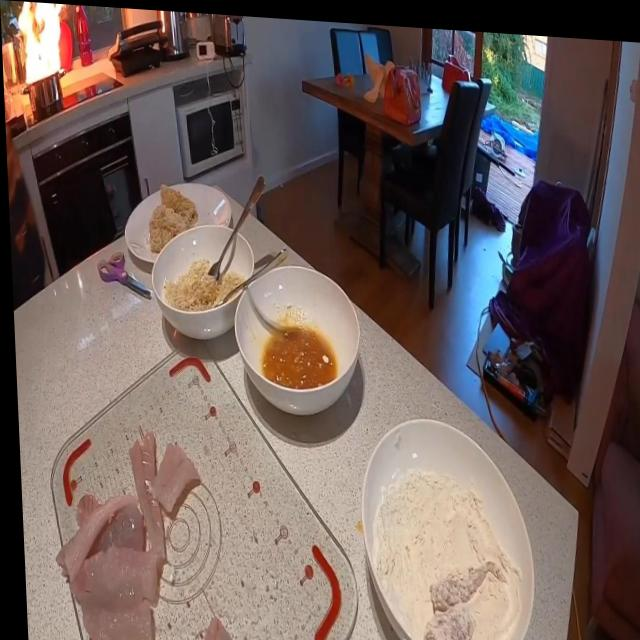fire: (15, 1, 68, 87)
